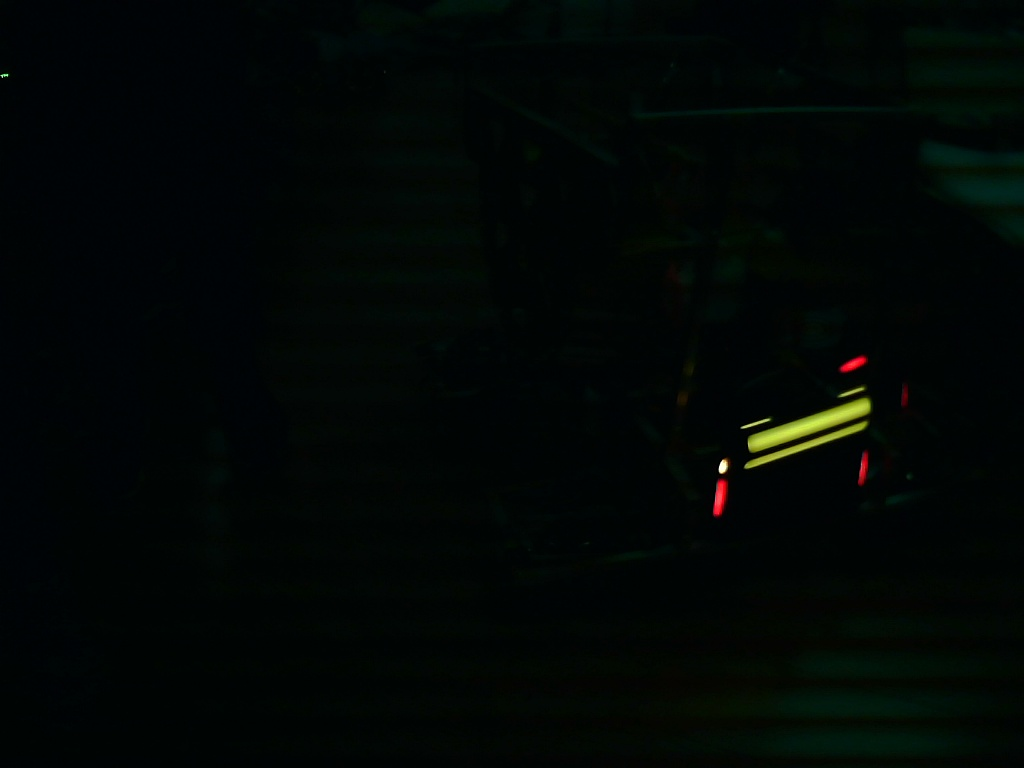lamp: (707, 479, 730, 522), (853, 451, 871, 487)
